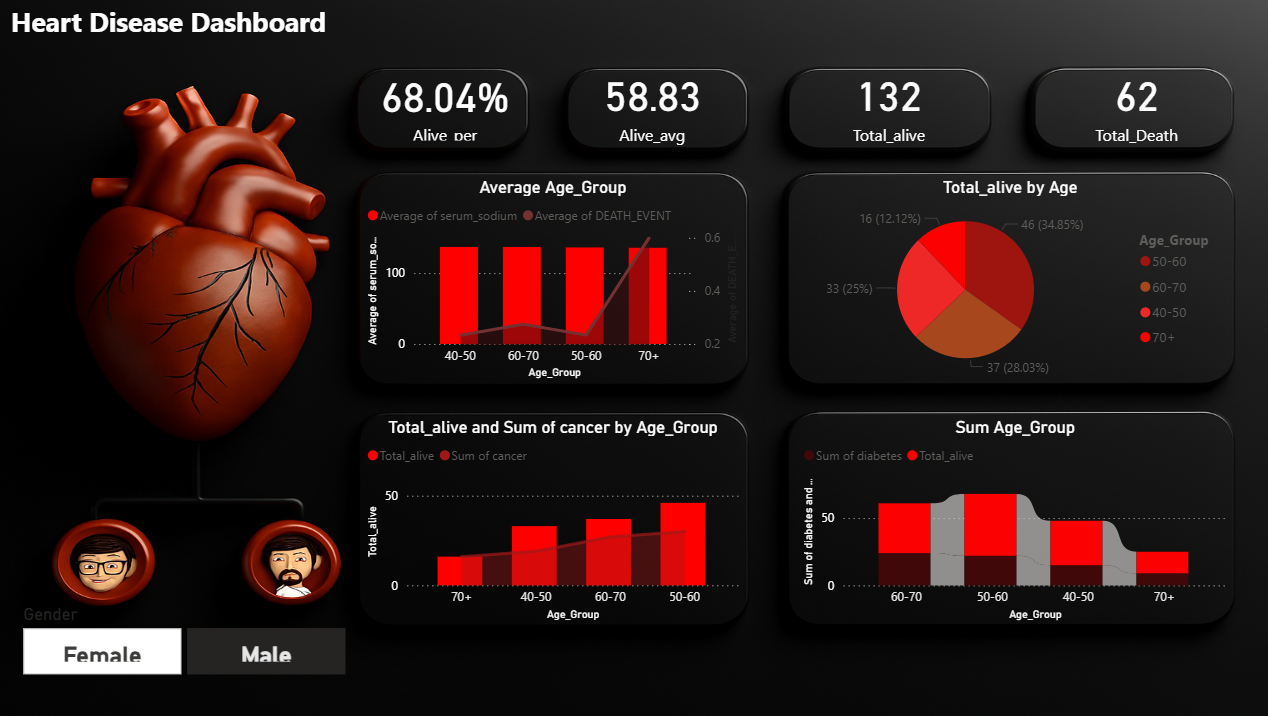

What the dashboard file says about the page in this screenshot:
{"tool":"powerbi","page":{"name":"Page 1","canvas":[1280,720],"ordinal":0},"visuals":[{"type":"textbox","box":[9.6,0,334.8,71.4],"z":0},{"type":"card","fields":{"Values":["heart_Disease_clinical_records_.Alive_prc"]},"box":[371.9,64.5,166,82.3],"z":1000},{"type":"card","fields":{"Values":["heart_Disease_clinical_records_.Alive_avg"]},"box":[547.5,57.6,227.8,96.1],"z":2000},{"type":"card","fields":{"Values":["heart_Disease_clinical_records_.Total_alive"]},"box":[784.9,57.6,226.4,96.1],"z":3000},{"type":"card","fields":{"Values":["heart_Disease_clinical_records_.Total_Death"]},"box":[1036,57.6,219.6,96.1],"z":4000},{"type":"lineClusteredColumnComboChart","fields":{"Y":["heart_Disease_clinical_records_.Total_alive"],"Y2":["Sum(heart_Disease_clinical_records_.cancer)"],"Category":["heart_Disease_clinical_records_.Age_Group"]},"box":[371.9,418.5,381.5,208.6],"z":5000},{"type":"lineClusteredColumnComboChart","title":"Average Age_Group","fields":{"Category":["heart_Disease_clinical_records_.Age_Group"],"Y":["Avg(heart_Disease_clinical_records_.serum_sodium)"],"Y2":["Avg(heart_Disease_clinical_records_.DEATH_EVENT)"]},"box":[371.9,178.4,381.5,207.2],"z":6000},{"type":"pieChart","title":"Total_alive by Age","fields":{"Category":["heart_Disease_clinical_records_.Age_Group"],"Y":["heart_Disease_clinical_records_.Total_alive"]},"box":[795.9,178.4,446,207.2],"z":7000},{"type":"ribbonChart","title":"Sum  Age_Group","fields":{"Category":["heart_Disease_clinical_records_.Age_Group"],"Y":["Sum(heart_Disease_clinical_records_.diabetes)","heart_Disease_clinical_records_.Total_alive"]},"box":[807.7,418.7,433.5,208.7],"z":8000},{"type":"advancedSlicerVisual","fields":{"Values":["heart_Disease_clinical_records_.Gender"]},"box":[27.4,606.5,333.4,75.5],"z":9000}]}

Visuals, with their boxes in screenshot pixels (x1, y1, x2, y2), scaled from the page's 1280x720 canvas onto the 1268x716 screenshot:
textbox: region(10, 0, 341, 71)
card - heart_Disease_clinical_records_.Alive_prc: region(368, 64, 533, 146)
card - heart_Disease_clinical_records_.Alive_avg: region(542, 57, 768, 153)
card - heart_Disease_clinical_records_.Total_alive: region(778, 57, 1002, 153)
card - heart_Disease_clinical_records_.Total_Death: region(1026, 57, 1244, 153)
lineClusteredColumnComboChart - heart_Disease_clinical_records_.Total_alive x Sum(heart_Disease_clinical_records_.cancer): region(368, 416, 746, 624)
"Average Age_Group" lineClusteredColumnComboChart: region(368, 177, 746, 383)
"Total_alive by Age" pieChart: region(788, 177, 1230, 383)
"Sum  Age_Group" ribbonChart: region(800, 416, 1230, 624)
advancedSlicerVisual - heart_Disease_clinical_records_.Gender: region(27, 603, 357, 678)
